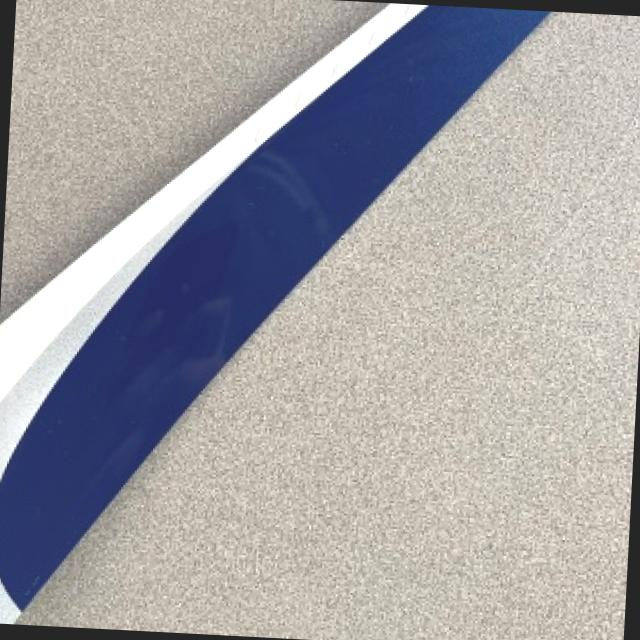healthy: (16, 12, 640, 640), (7, 0, 379, 193)
